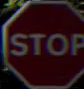Stop: (4, 4, 80, 82)
